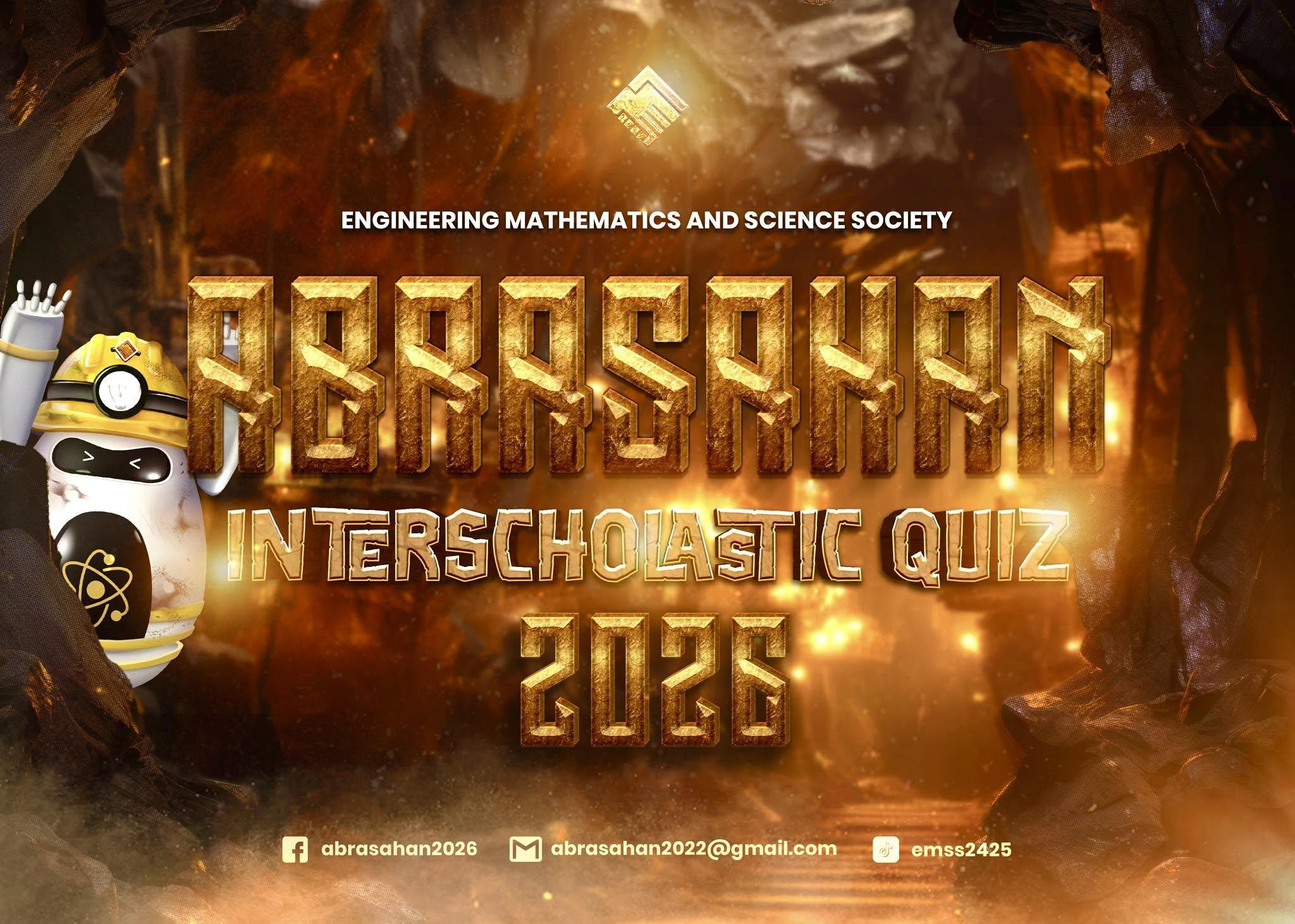embellishment: (272, 823, 1017, 870)
logo: (601, 59, 696, 153), (866, 829, 906, 867), (505, 830, 546, 864), (280, 832, 317, 868)
text: (178, 260, 1125, 600), (496, 600, 802, 762), (335, 201, 957, 236), (546, 834, 843, 863), (315, 835, 486, 864), (907, 835, 1021, 864)
